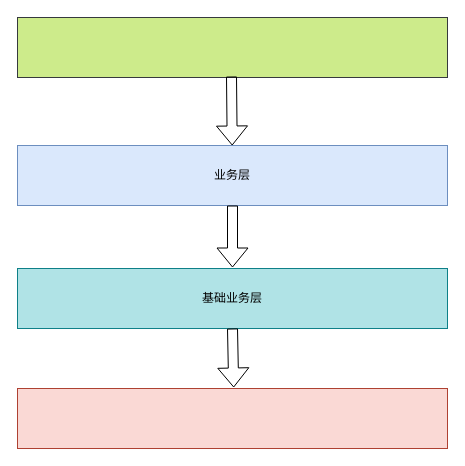
Some shapes in this 465 by 466 pixel diagram are drawn without their labels. Here are the shapes that lost their labels. From the top down, the centre of each, then its label:
the point at 232,47: App
the point at 232,418: 基础层
